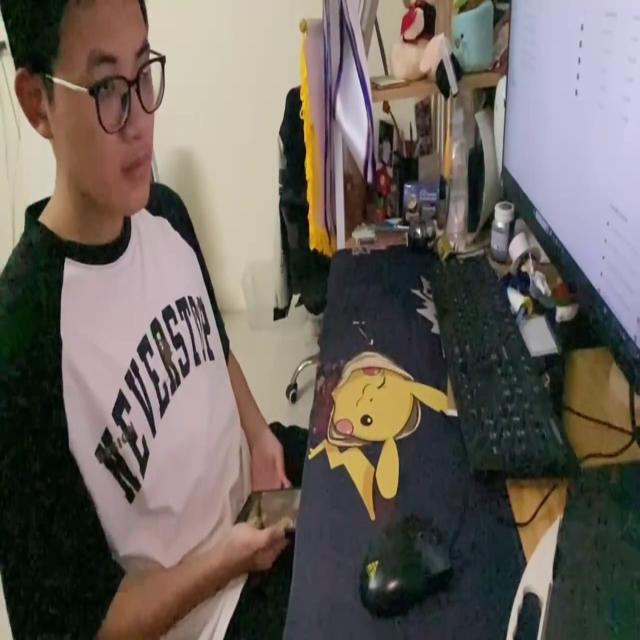phone: (232, 478, 304, 547)
student: (0, 0, 296, 640)
